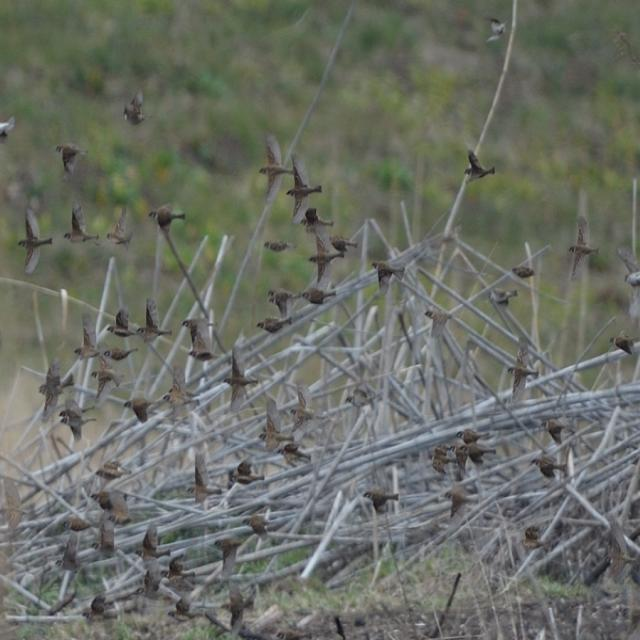bird: (158, 362, 201, 425), (508, 336, 542, 414), (223, 340, 258, 414), (13, 212, 53, 276), (307, 226, 346, 290), (259, 134, 295, 202), (286, 156, 322, 219), (32, 362, 71, 415), (603, 526, 639, 583), (182, 457, 223, 507), (568, 218, 600, 282), (221, 580, 256, 638), (616, 243, 640, 324), (86, 351, 122, 404), (132, 297, 170, 346), (369, 257, 411, 300), (449, 443, 500, 478), (259, 401, 295, 450), (134, 518, 171, 562), (462, 148, 497, 194), (148, 205, 186, 246), (105, 203, 136, 253), (230, 453, 267, 494), (423, 307, 460, 347), (212, 534, 243, 581), (120, 392, 158, 430), (68, 316, 100, 361), (61, 203, 94, 245), (180, 315, 218, 351), (360, 489, 405, 519), (290, 381, 314, 436), (80, 596, 120, 627), (440, 486, 480, 516), (160, 556, 196, 589), (54, 536, 82, 578), (90, 517, 118, 559), (93, 460, 134, 486), (134, 570, 166, 603), (57, 396, 99, 421), (122, 90, 148, 130), (240, 512, 274, 542), (83, 490, 131, 511), (425, 444, 457, 475), (107, 304, 136, 338), (542, 417, 576, 446), (277, 441, 315, 466), (56, 143, 83, 178), (343, 387, 384, 410), (96, 342, 141, 362), (520, 522, 547, 555), (167, 596, 201, 621), (58, 417, 98, 438), (530, 458, 565, 482), (296, 205, 334, 227), (299, 289, 339, 309), (266, 294, 298, 319), (251, 318, 295, 335), (327, 232, 359, 254), (262, 238, 300, 256), (484, 288, 521, 306), (509, 265, 548, 282), (608, 334, 636, 357), (185, 345, 216, 365), (62, 514, 92, 534), (1, 115, 15, 146), (456, 429, 487, 442), (109, 514, 132, 530), (266, 286, 297, 297)
